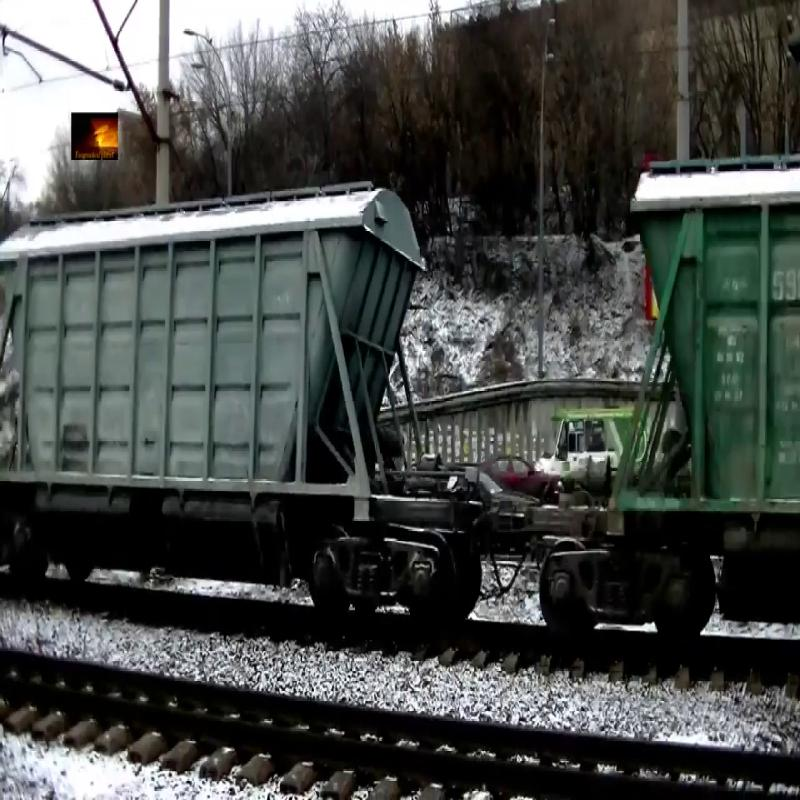train: (1, 177, 429, 537), (605, 150, 800, 555)
